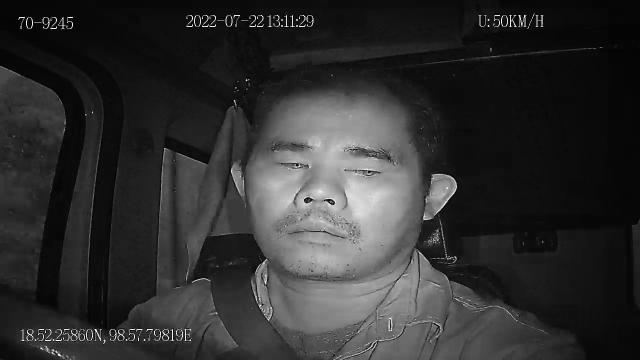SafeDriving: (263, 145, 319, 179), (337, 152, 392, 184)
Seatbelt: (208, 262, 298, 360)
